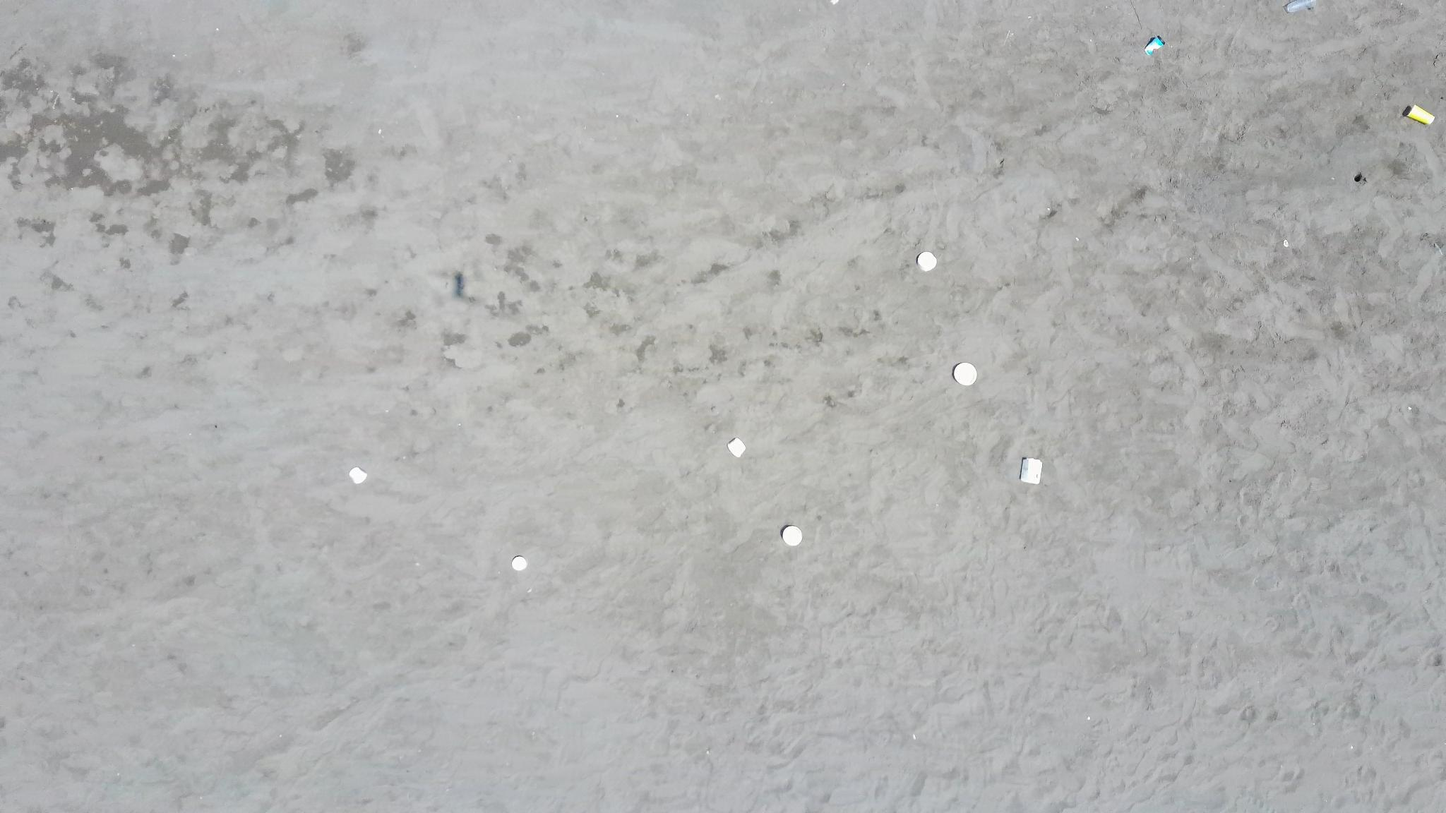Garbage: (952, 361, 976, 385), (1406, 104, 1434, 124), (1020, 458, 1041, 483), (779, 524, 802, 546), (915, 251, 937, 270), (726, 437, 745, 457), (1144, 35, 1164, 54), (1284, 0, 1315, 12), (453, 272, 465, 299), (348, 466, 367, 483), (511, 555, 527, 570), (1354, 172, 1365, 183), (1283, 239, 1288, 247)
